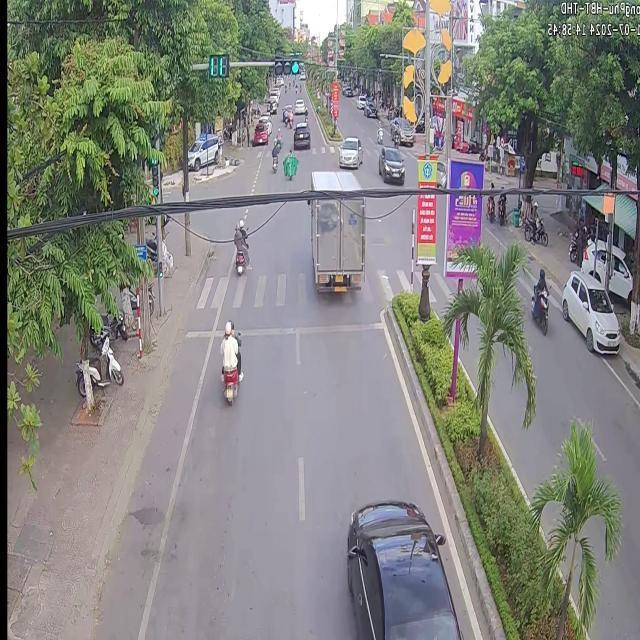car: (346, 500, 459, 638), (308, 198, 363, 291), (309, 169, 359, 191), (377, 145, 403, 182), (337, 136, 360, 167), (292, 120, 309, 147)
green_light: (272, 56, 298, 74), (149, 160, 159, 199)
motobike: (219, 320, 241, 404), (232, 218, 249, 274), (280, 149, 297, 177), (270, 156, 277, 171)
stop_line: (182, 319, 382, 337)
